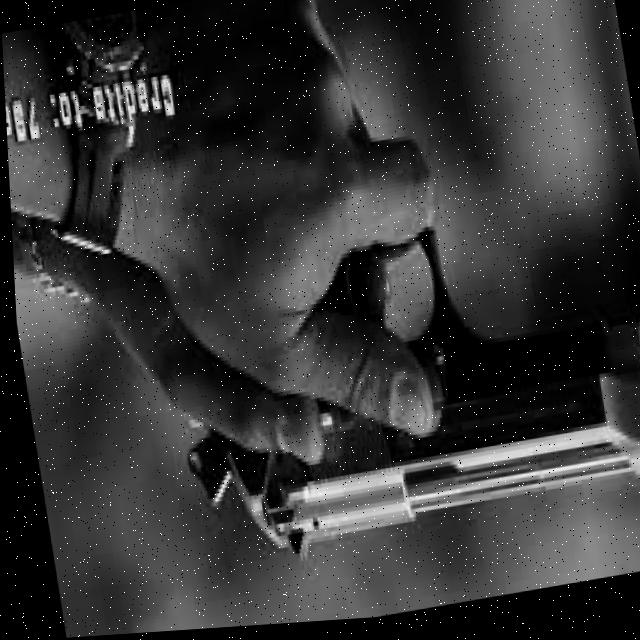pistol: (148, 195, 640, 585)
